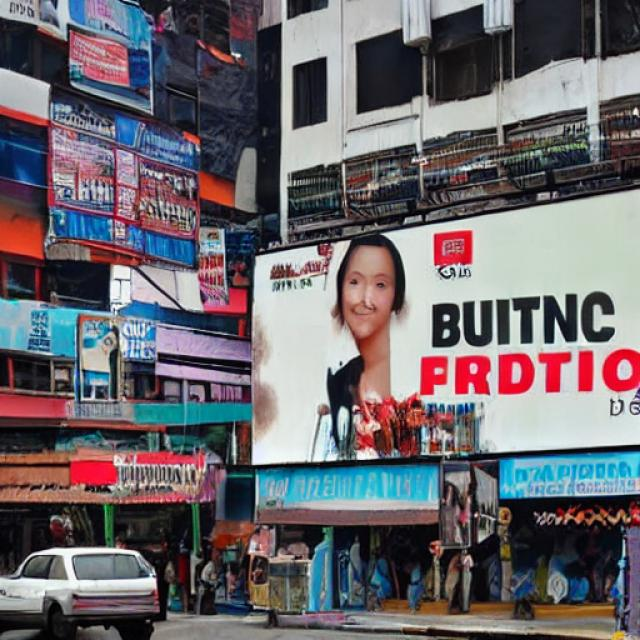Billboard: (249, 179, 640, 470)
